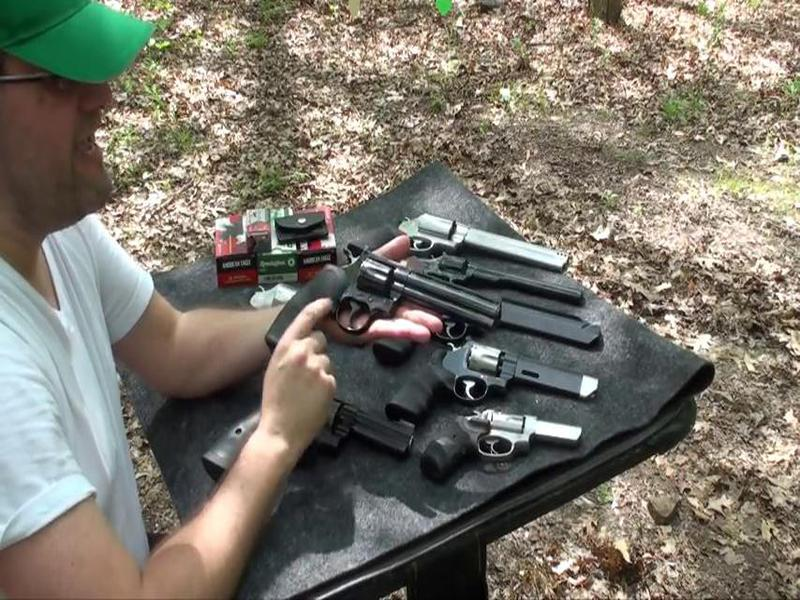Revolver: (236, 222, 530, 399)
